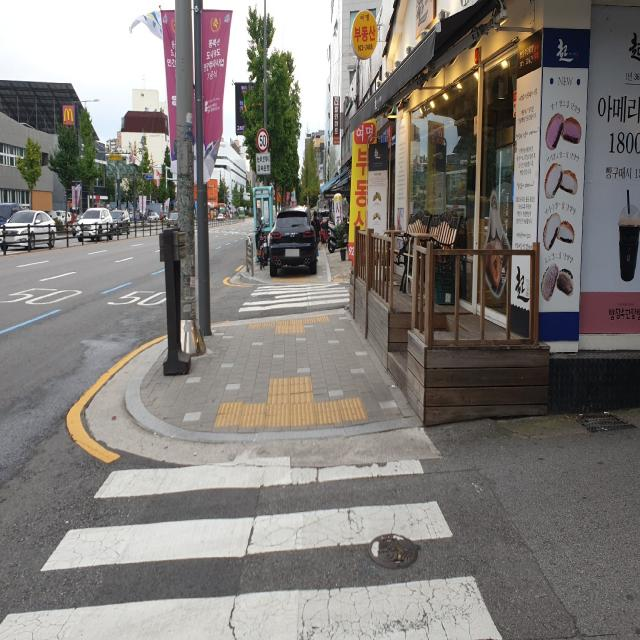횡단보도: (0, 450, 507, 640), (247, 273, 353, 313)
